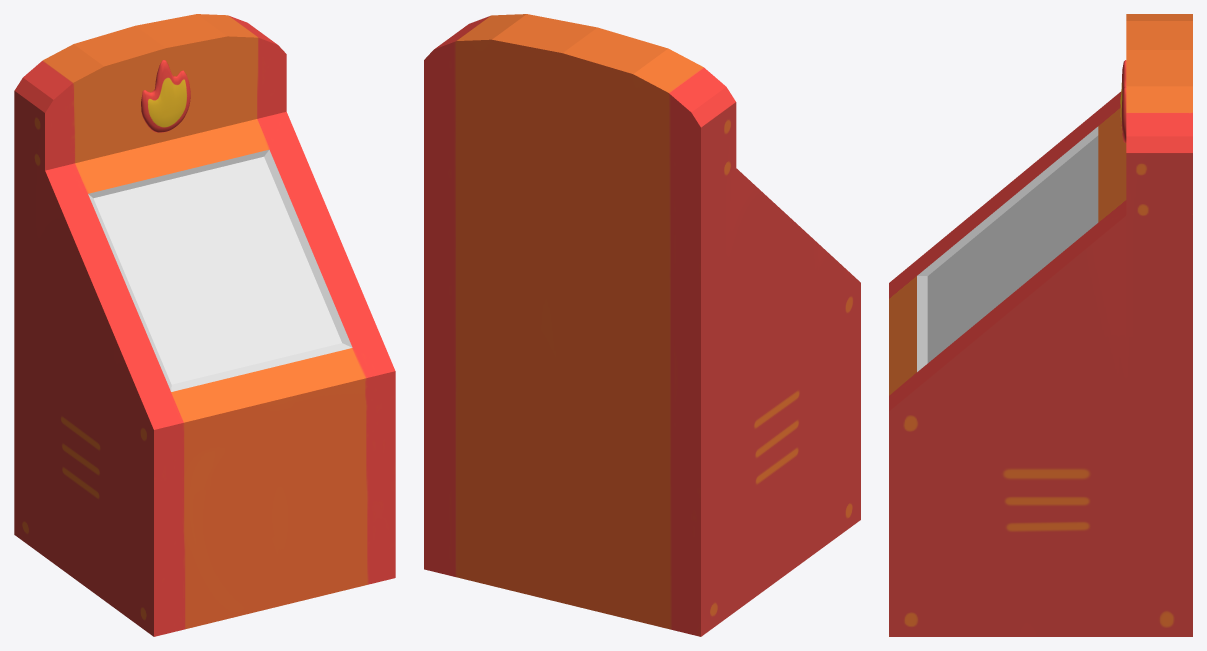
Rendered from Flammable.fbx.
The picture shows the model from 3 angles, left to right: view 1: azimuth 30°, elevation 25°; view 2: azimuth 150°, elevation 25°; view 3: azimuth 270°, elevation 25°; orthographic projection. The views are drawn at different scales.
Parts seen in each view (by area): view 1: FlammableMachine_Body, FlammableMachine_Screen, icon_Fire; view 2: FlammableMachine_Body; view 3: FlammableMachine_Body, FlammableMachine_Screen, icon_Fire.
Part boxes in pixels (left/top/right/bottom): FlammableMachine_Body: left=14, top=14, right=395, bottom=636; FlammableMachine_Screen: left=88, top=149, right=352, bottom=391; icon_Fire: left=141, top=60, right=190, bottom=132; FlammableMachine_Body: left=424, top=14, right=860, bottom=636; FlammableMachine_Body: left=889, top=14, right=1192, bottom=636; FlammableMachine_Screen: left=917, top=126, right=1098, bottom=371; icon_Fire: left=1120, top=60, right=1126, bottom=142.
Size of the model in its own units: 100 by 190 by 100.
